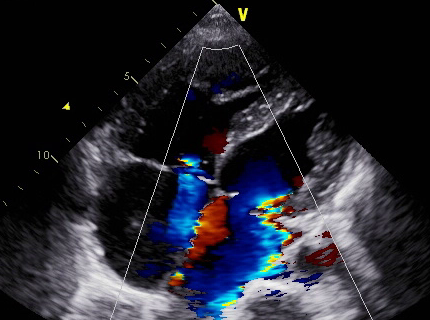MR: (219, 179, 295, 250)
